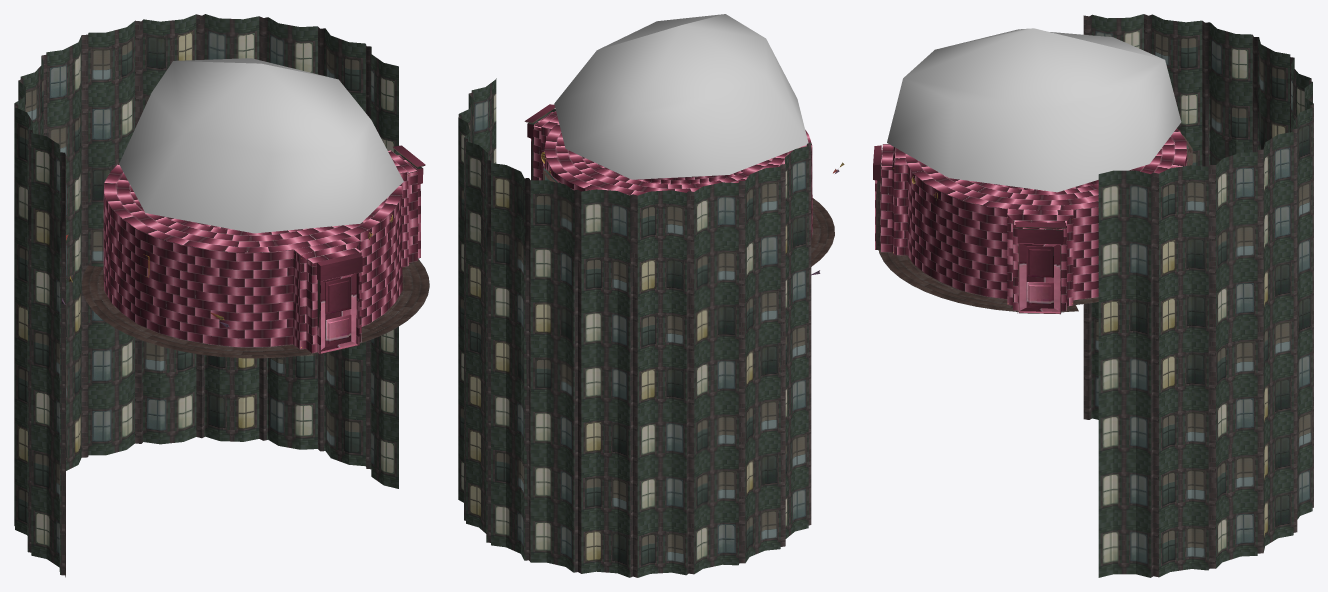
The model's file is Environment.fbx.
3 renders of one model, left to right at view 1: azimuth 30°, elevation 25°; view 2: azimuth 150°, elevation 25°; view 3: azimuth 270°, elevation 25°, orthographic. The views are drawn at different scales.
Parts seen in each view (by area): view 1: exterior, Lightblocker, sky, woodfloor; view 2: exterior, sky, Lightblocker, woodfloor; view 3: exterior, sky, Lightblocker, woodfloor, doors_frames.
Boxes of the visible parts, x1=… form: exterior: x1=14, y1=14, x2=398, y2=577; Lightblocker: x1=103, y1=145, x2=425, y2=354; sky: x1=119, y1=58, x2=403, y2=233; woodfloor: x1=81, y1=258, x2=429, y2=358; exterior: x1=458, y1=78, x2=811, y2=577; sky: x1=554, y1=14, x2=808, y2=179; Lightblocker: x1=525, y1=104, x2=812, y2=240; woodfloor: x1=811, y1=198, x2=834, y2=266; exterior: x1=1083, y1=14, x2=1313, y2=577; sky: x1=887, y1=28, x2=1181, y2=192; Lightblocker: x1=873, y1=128, x2=1187, y2=313; woodfloor: x1=878, y1=250, x2=1098, y2=312; doors_frames: x1=876, y1=130, x2=1192, y2=314.
Size of the model in its own units: 11.26 by 15.22 by 12.95.
